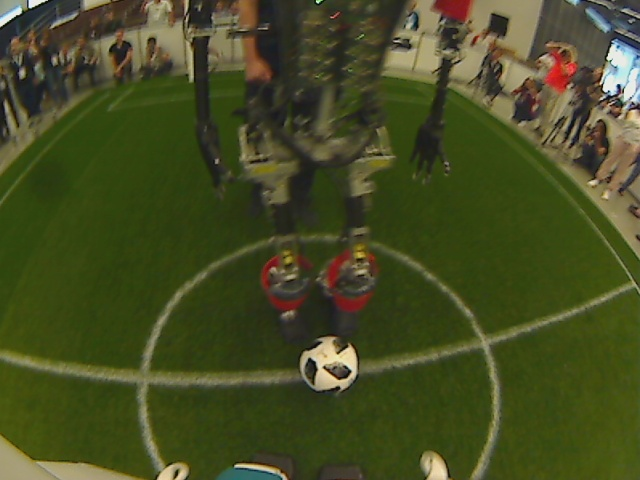ball: (296, 334, 361, 397)
